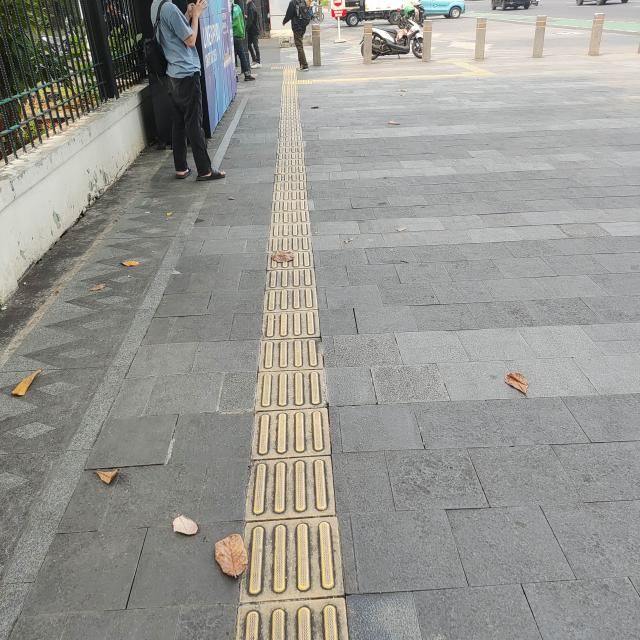lurus: (249, 83, 338, 640)
